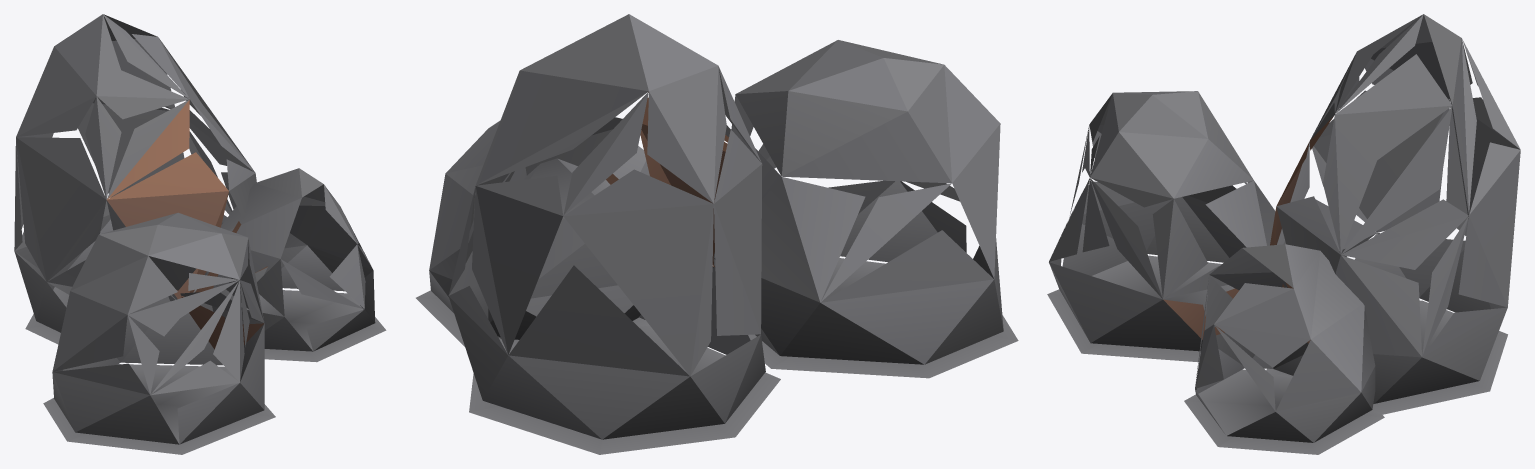
Rendered from volcanic.lod.glb.
3 views of the same model, side by side, from view 1: azimuth 30°, elevation 25°; view 2: azimuth 150°, elevation 25°; view 3: azimuth 270°, elevation 25° (orthographic). The views are drawn at different scales.
Parts seen in each view (by area): view 1: volcanic; view 2: volcanic; view 3: volcanic.
Boxes of the visible parts, x1=… form: volcanic: x1=14, y1=14, x2=386, y2=454; volcanic: x1=416, y1=14, x2=1018, y2=454; volcanic: x1=1047, y1=14, x2=1520, y2=454.
Size of the model in its own units: 3.3 by 2.53 by 3.3.
